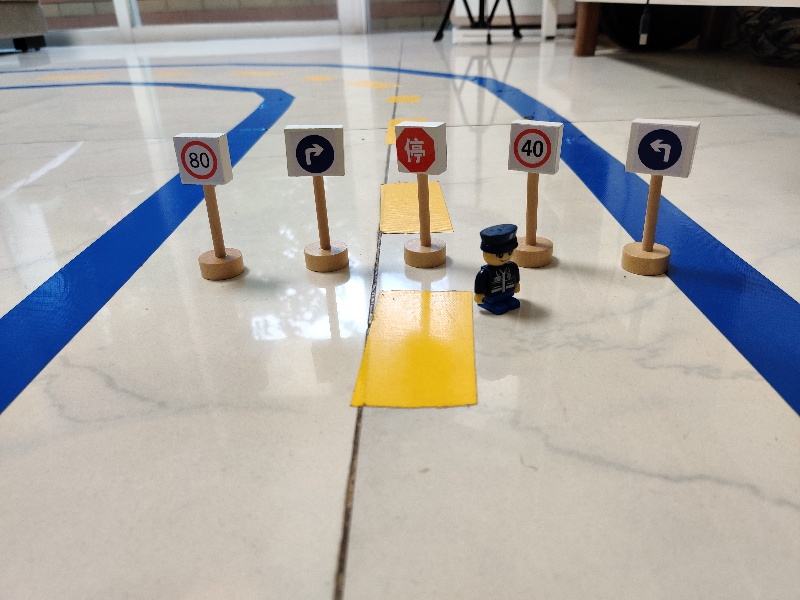limit_40: (503, 118, 567, 179)
limit_80: (167, 130, 237, 189)
person: (469, 219, 526, 318)
stop: (390, 118, 450, 177)
turn_left: (626, 115, 700, 181)
turn_right: (279, 121, 350, 180)
